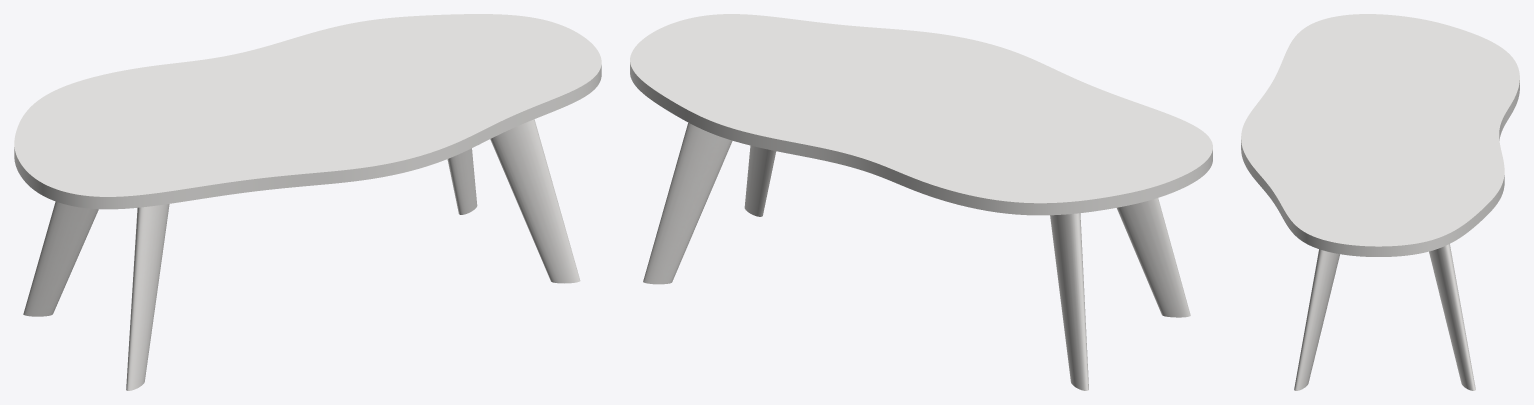
File: purewhite_toplast_standard_ferdinantwalnut.glb
The picture shows the model from 3 angles, left to right: view 1: azimuth 30°, elevation 25°; view 2: azimuth 150°, elevation 25°; view 3: azimuth 270°, elevation 25°; orthographic projection. The views are drawn at different scales.
Visible parts, largest first — view 1: standard_toplast, ferdinandwalnut; view 2: standard_toplast, ferdinandwalnut; view 3: standard_toplast, ferdinandwalnut.
Part boxes in pixels (left/top/right/bottom): standard_toplast: left=14, top=14, right=601, bottom=209; ferdinandwalnut: left=23, top=119, right=580, bottom=390; standard_toplast: left=630, top=14, right=1212, bottom=215; ferdinandwalnut: left=643, top=122, right=1190, bottom=390; standard_toplast: left=1241, top=14, right=1519, bottom=256; ferdinandwalnut: left=1294, top=244, right=1475, bottom=390.
Size of the model in its own units: 7.5 by 2.51 by 3.8.
1 material, 1 textured.
